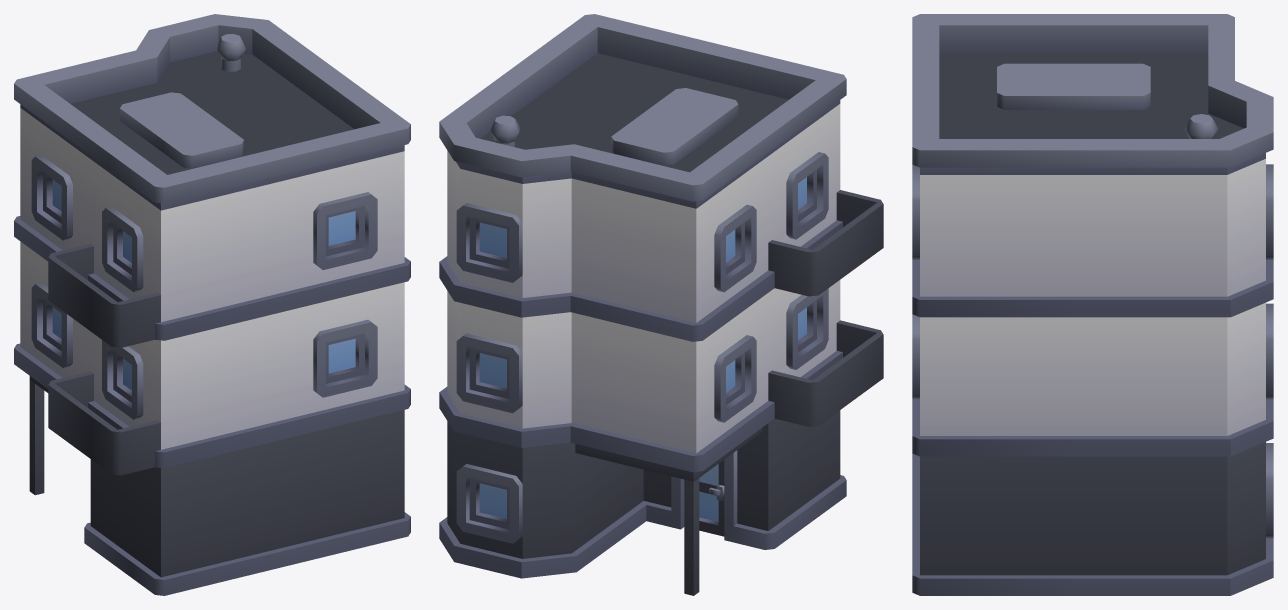
Rendered from commercial-building-b.glb.
The picture shows the model from 3 angles, left to right: view 1: azimuth 30°, elevation 25°; view 2: azimuth 150°, elevation 25°; view 3: azimuth 270°, elevation 25°; orthographic projection. The views are drawn at different scales.
Parts seen in each view (by area): view 1: building-b; view 2: building-b; view 3: building-b.
Part boxes in pixels (<box>): building-b: <box>14,14,410,595</box>; building-b: <box>439,14,883,595</box>; building-b: <box>912,14,1273,595</box>.
Bounding box in the file's own units: 0.9701 × 1.29 × 0.94.
Materials: 1 (1 with a texture image).
